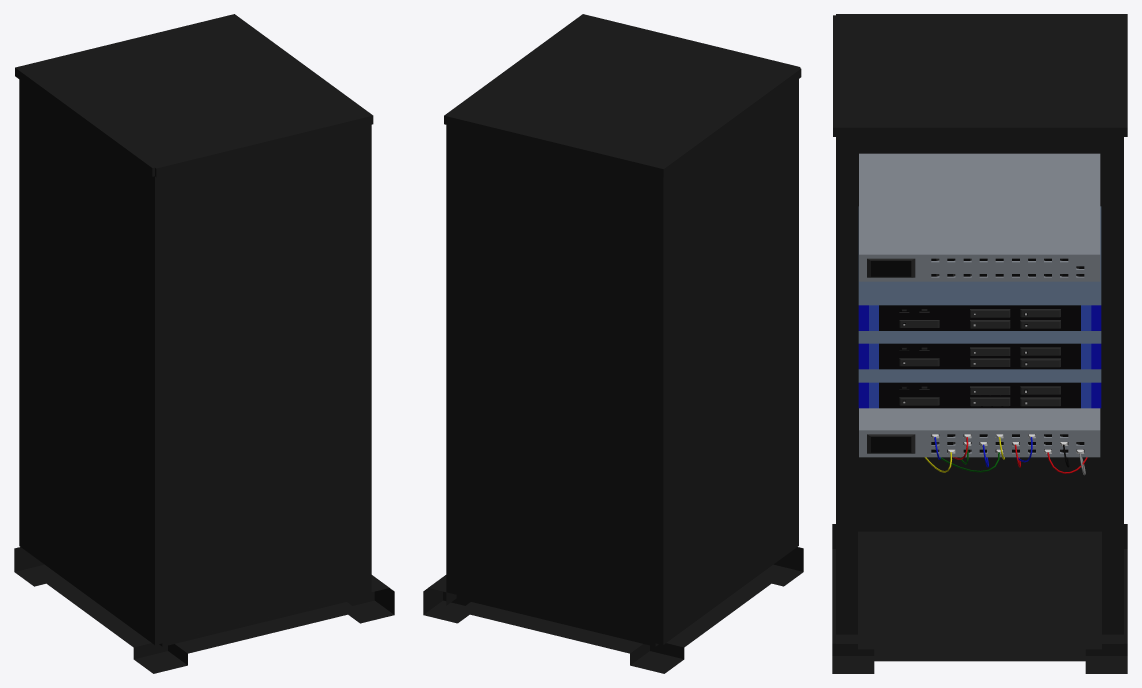
File: serverpuzzle.obj
3 renders of one model, left to right at view 1: azimuth 30°, elevation 25°; view 2: azimuth 150°, elevation 25°; view 3: azimuth 270°, elevation 25°, orthographic. The views are drawn at different scales.
Visible parts, largest first — view 1: Cube; view 2: Cube; view 3: Cube, Cube.003, Cube.002, Cube.030, Cube.005, Cube.004.
Boxes of the visible parts, <box> form: Cube: <box>14,14,394,673</box>; Cube: <box>423,14,803,673</box>; Cube: <box>832,14,1127,673</box>; Cube.003: <box>859,153,1100,281</box>; Cube.002: <box>858,206,1101,330</box>; Cube.030: <box>859,408,1100,457</box>; Cube.005: <box>858,369,1101,408</box>; Cube.004: <box>858,331,1101,369</box>.
Size of the model in its own units: 3.53 by 7.05 by 3.53.
